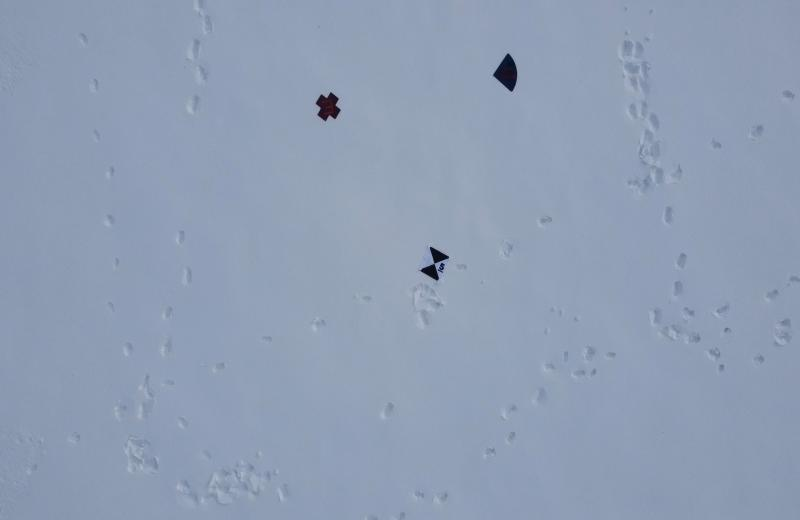Cross: (314, 90, 342, 125)
Quarter Circle: (492, 49, 521, 97)
